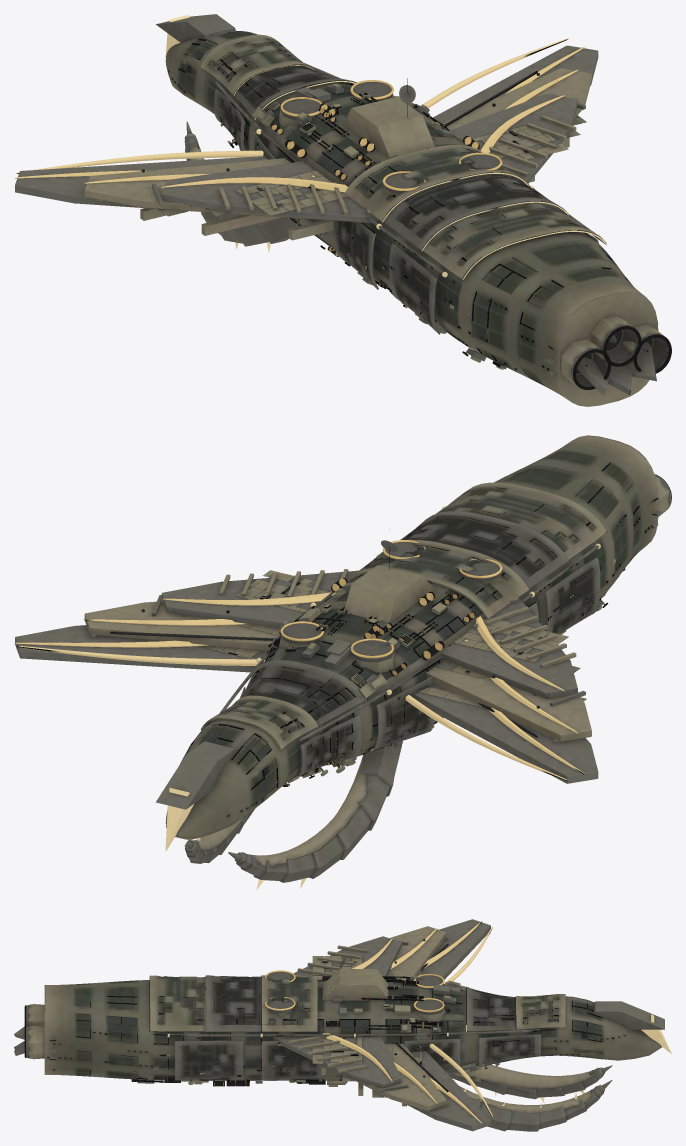
Rendered from harpy_claw_hero.glb.
3 views of the same model, one above another, from view 1: azimuth 30°, elevation 25°; view 2: azimuth 150°, elevation 25°; view 3: azimuth 270°, elevation 25° (orthographic). The views are drawn at different scales.
Parts seen in each view (by area): view 1: HullBaked; view 2: HullBaked; view 3: HullBaked.
Boxes of the visible parts, x1=… form: HullBaked: x1=14, y1=14, x2=671, y2=406; HullBaked: x1=14, y1=435, x2=671, y2=889; HullBaked: x1=14, y1=919, x2=671, y2=1131.
Bounding box in the file's own units: 215 × 85.17 × 297.
Materials: 1 (1 with a texture image).
